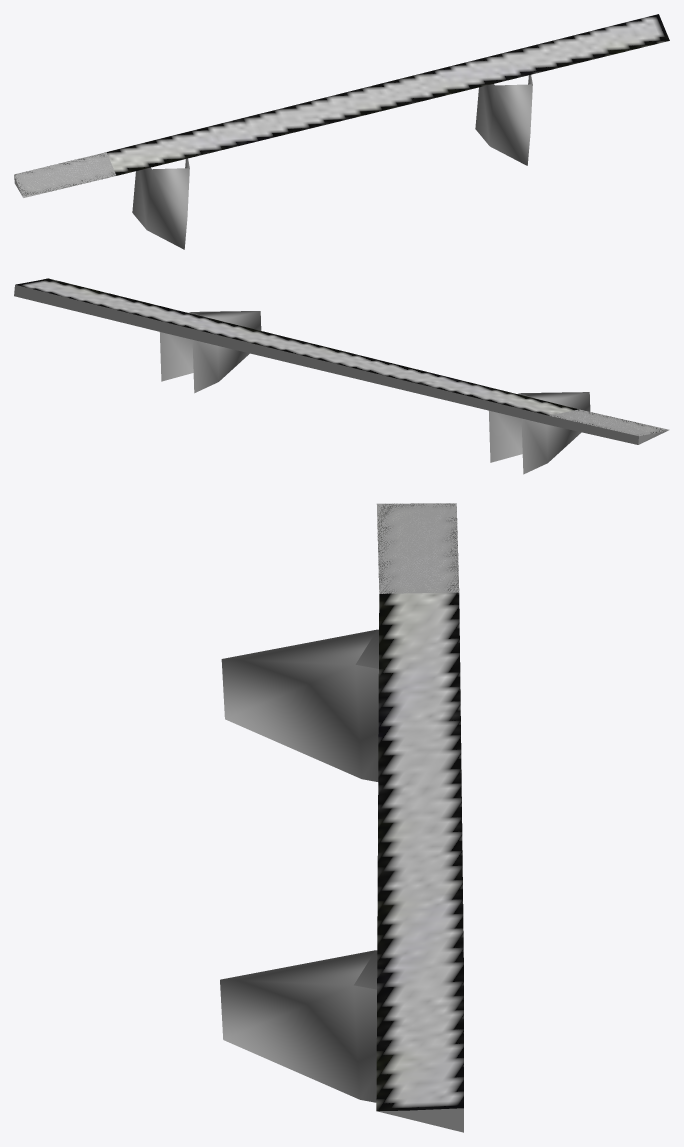
File: leftOuterSubFlaps.dae
3 renders of one model, top to bottom at view 1: azimuth 30°, elevation 25°; view 2: azimuth 150°, elevation 25°; view 3: azimuth 270°, elevation 25°, orthographic. The views are drawn at different scales.
Parts seen in each view (by area): view 1: SketchUp (×4); view 2: SketchUp (×5); view 3: SketchUp (×5).
Boxes of the visible parts, bbox=[...] form: SketchUp (×4): bbox=[14, 14, 669, 249]; SketchUp (×5): bbox=[14, 278, 669, 474]; SketchUp (×5): bbox=[220, 503, 463, 1132].
Size of the model in its own units: 200 by 33.29 by 21.25.
4 materials, 1 textured.
